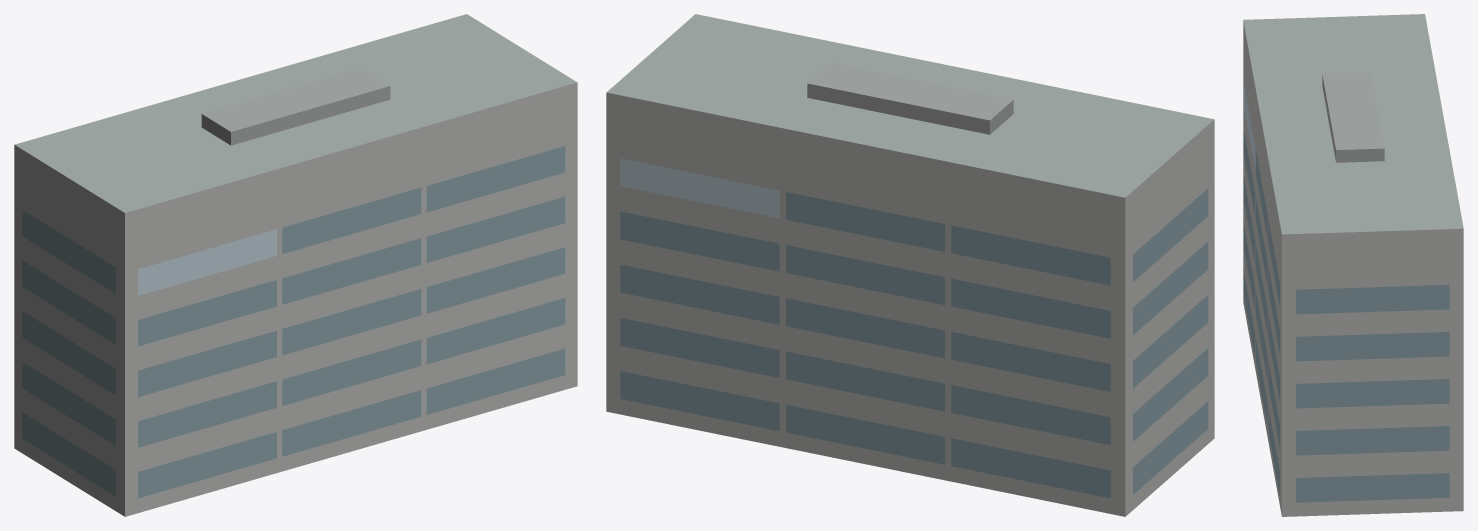
File: fallback-olympic-athletes-village-316.glb
3 views of the same model, side by side, from view 1: azimuth 30°, elevation 25°; view 2: azimuth 150°, elevation 25°; view 3: azimuth 270°, elevation 25° (orthographic). The views are drawn at different scales.
Parts seen in each view (by area): view 1: fallback-olympic-athletes-village-316; view 2: fallback-olympic-athletes-village-316; view 3: fallback-olympic-athletes-village-316.
Boxes of the visible parts, box(x1,y1,x2,y2) form: fallback-olympic-athletes-village-316: box(14, 14, 577, 516); fallback-olympic-athletes-village-316: box(606, 14, 1214, 516); fallback-olympic-athletes-village-316: box(1243, 14, 1463, 516).
Bounding box in the file's own units: 30.64 × 19.12 × 12.95.
